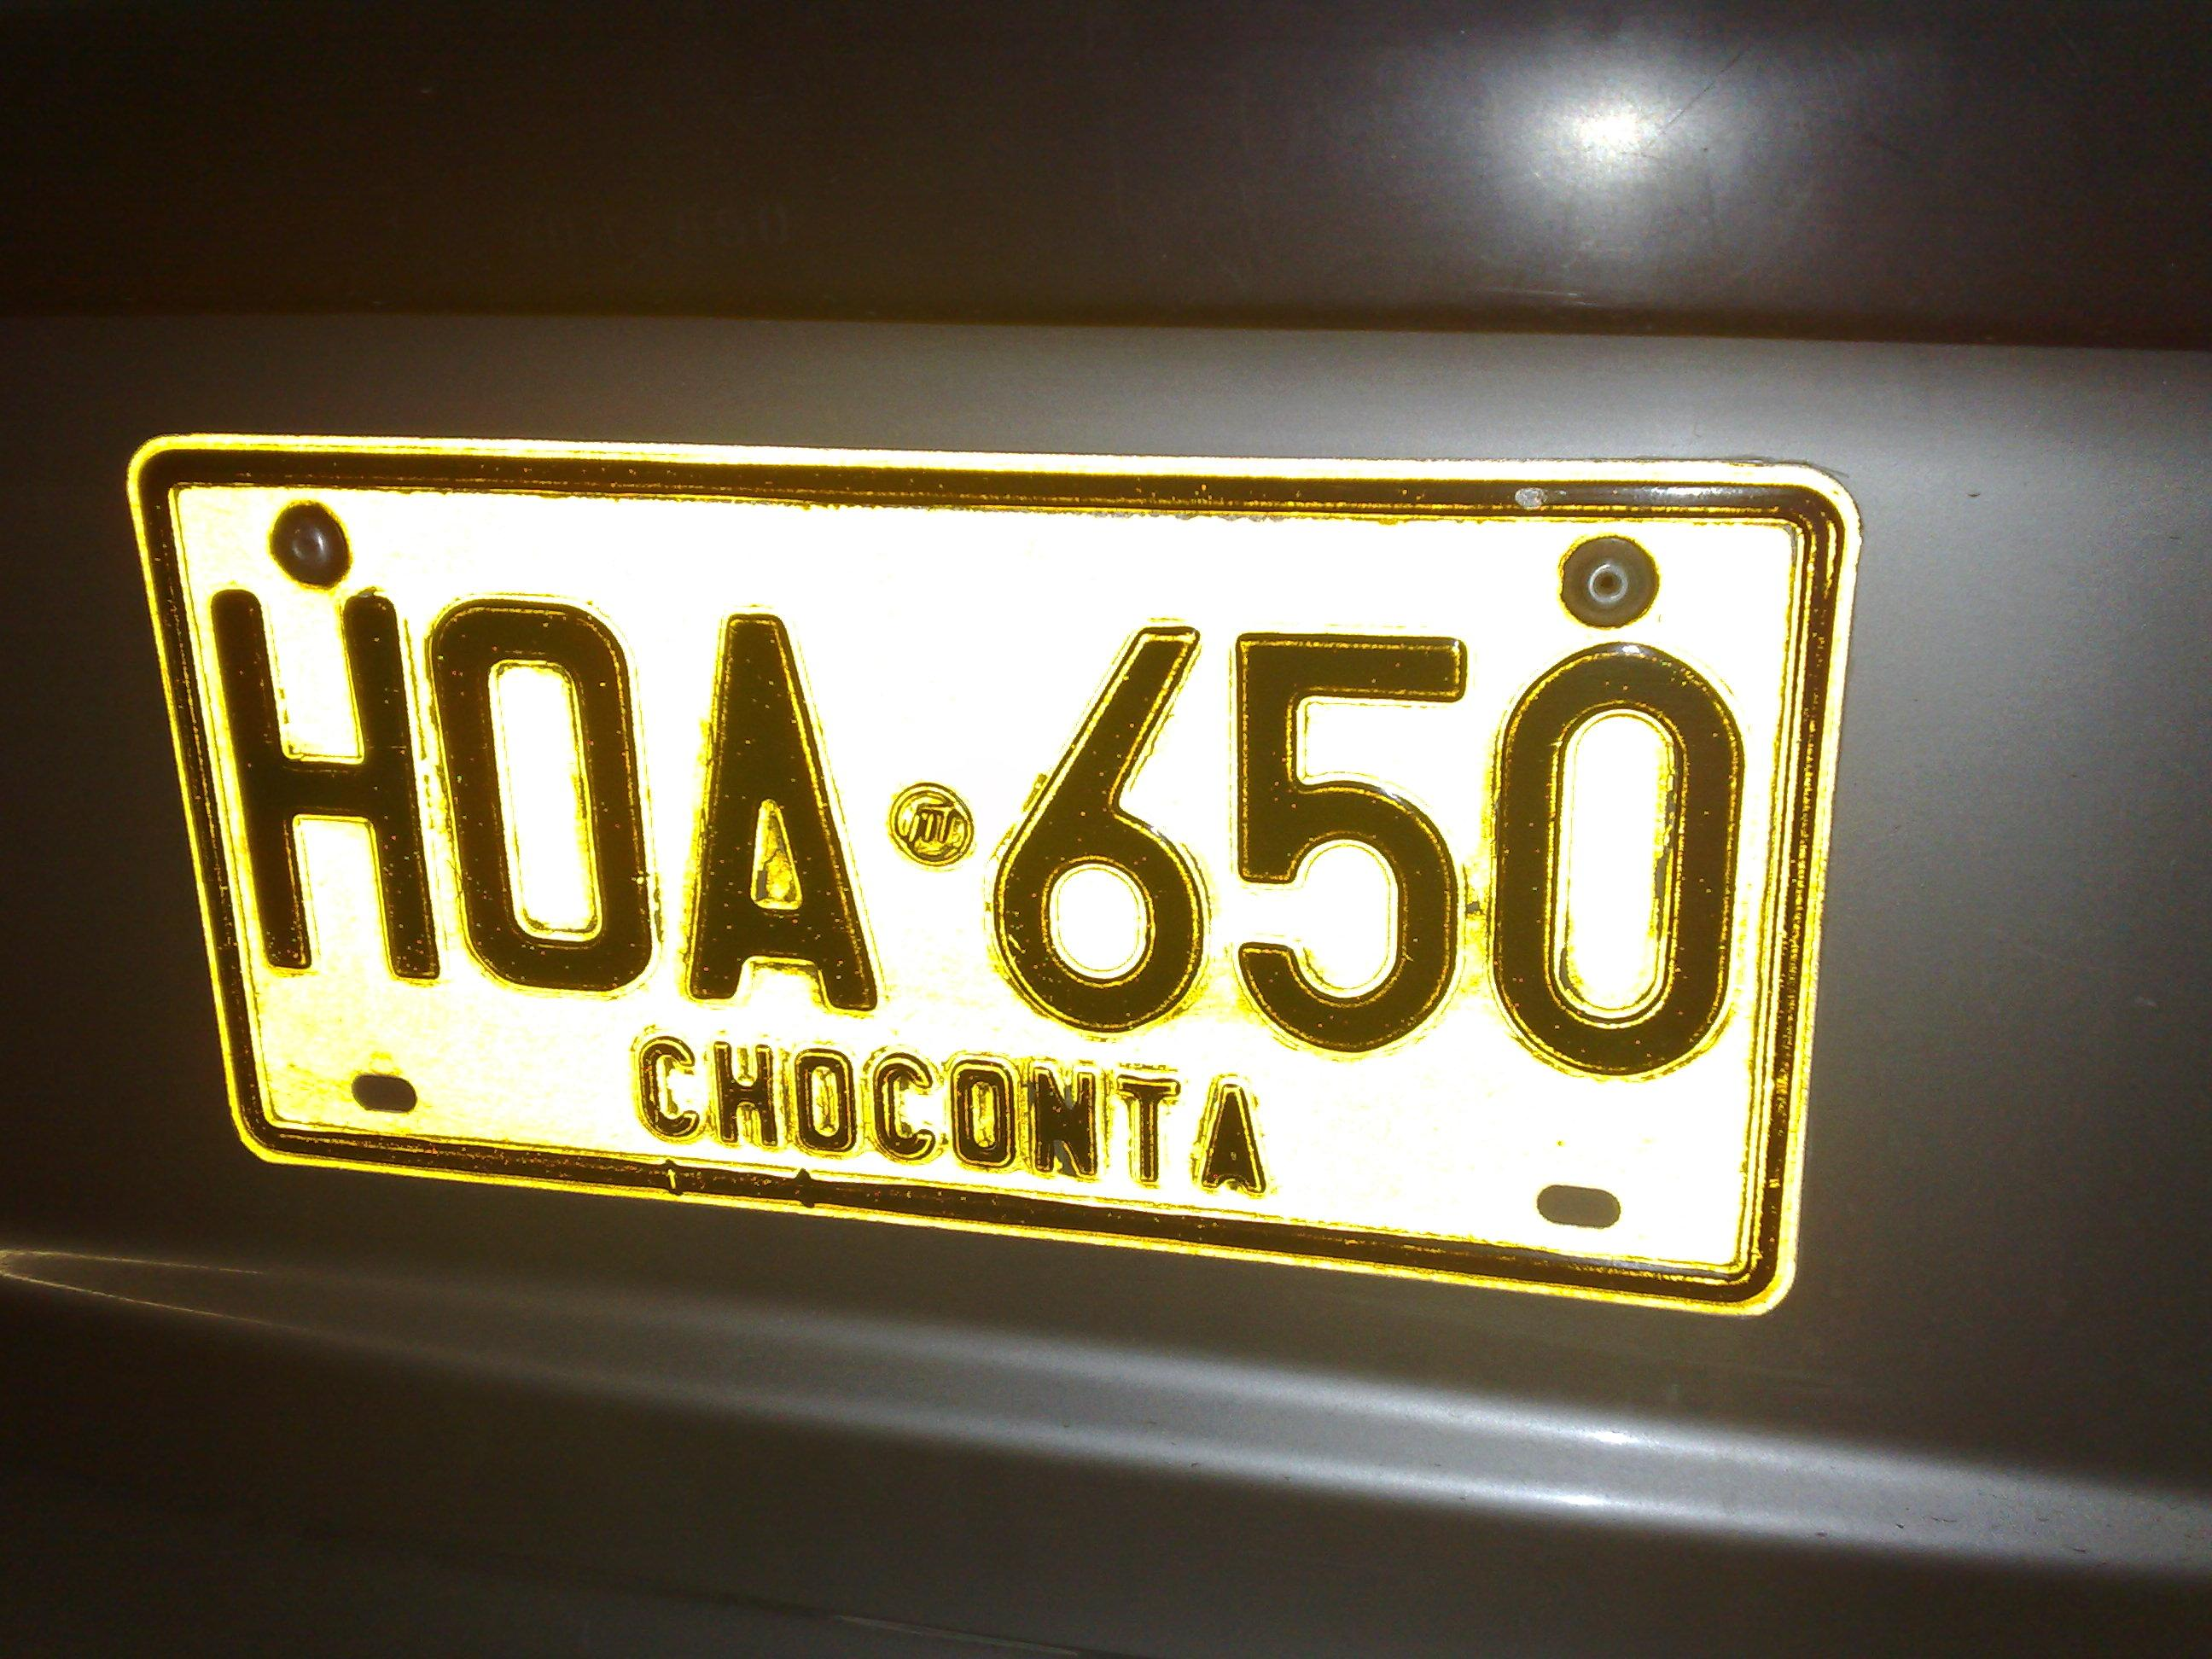placas: (116, 399, 1872, 1333)
